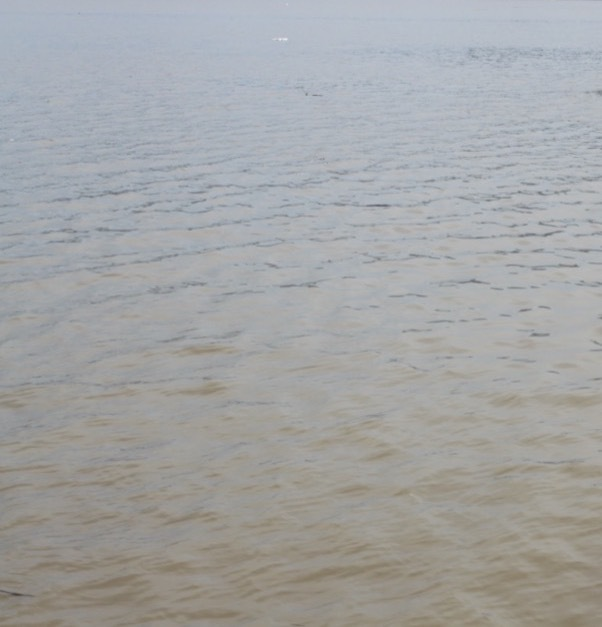plastic: (264, 29, 297, 48)
